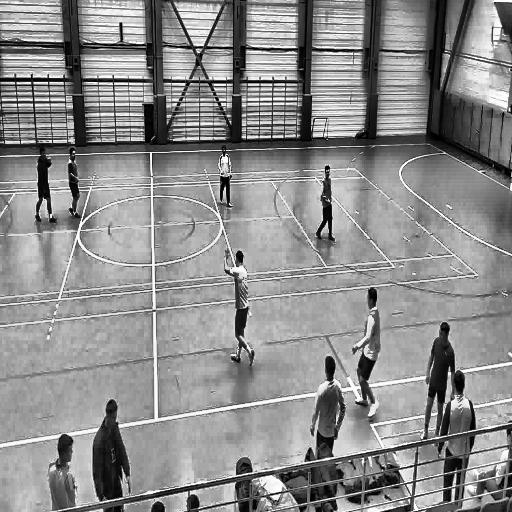player: (437, 369, 474, 506), (92, 392, 134, 506), (421, 316, 456, 448), (350, 282, 381, 424), (224, 247, 254, 373), (310, 351, 346, 450), (35, 138, 58, 224), (314, 164, 338, 244), (216, 146, 234, 208), (66, 145, 80, 222)
